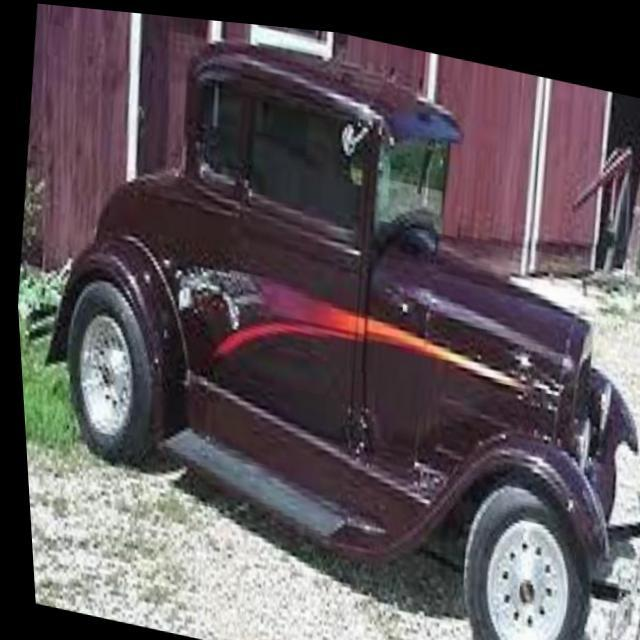crack: (168, 251, 263, 332)
